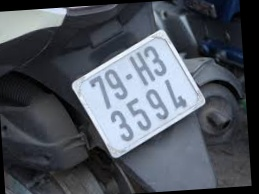Bien-so: (83, 23, 222, 151)
